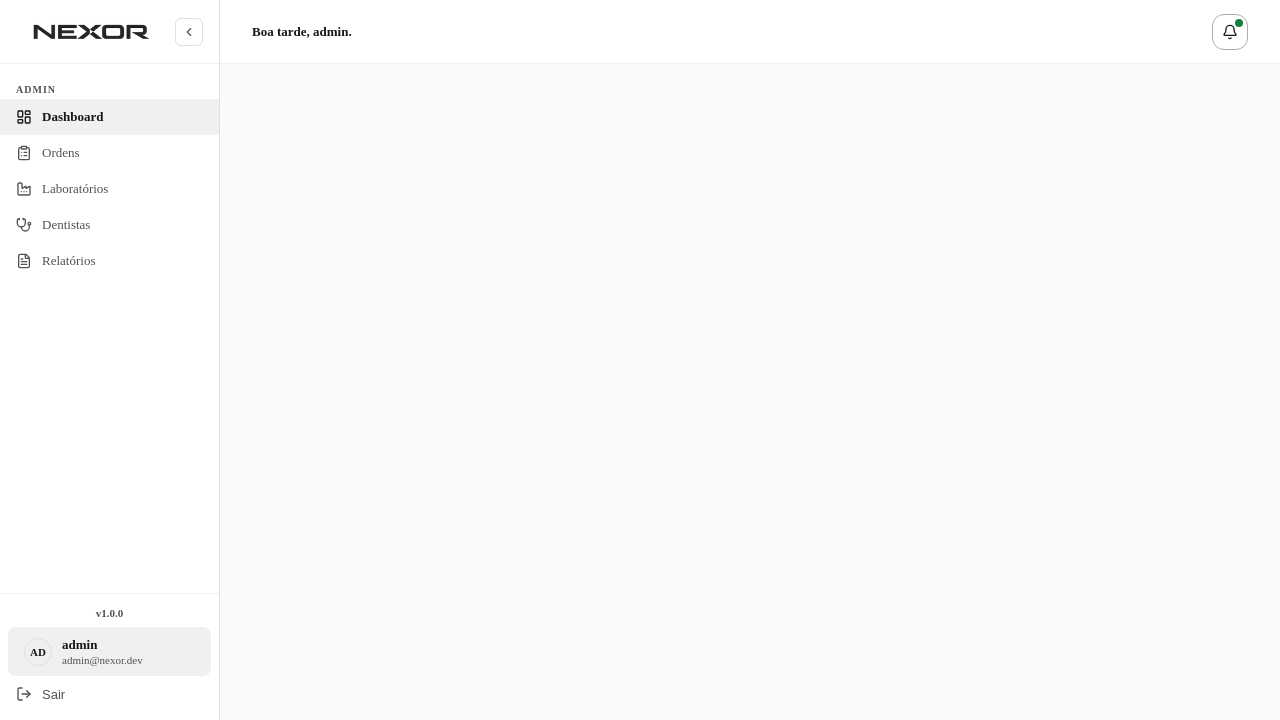
PortalLayout navigation › opens the notifications box with read and unread mock notifications
Click the button named "notificações". click: (1230, 32)
box: [1212,14,1248,50]
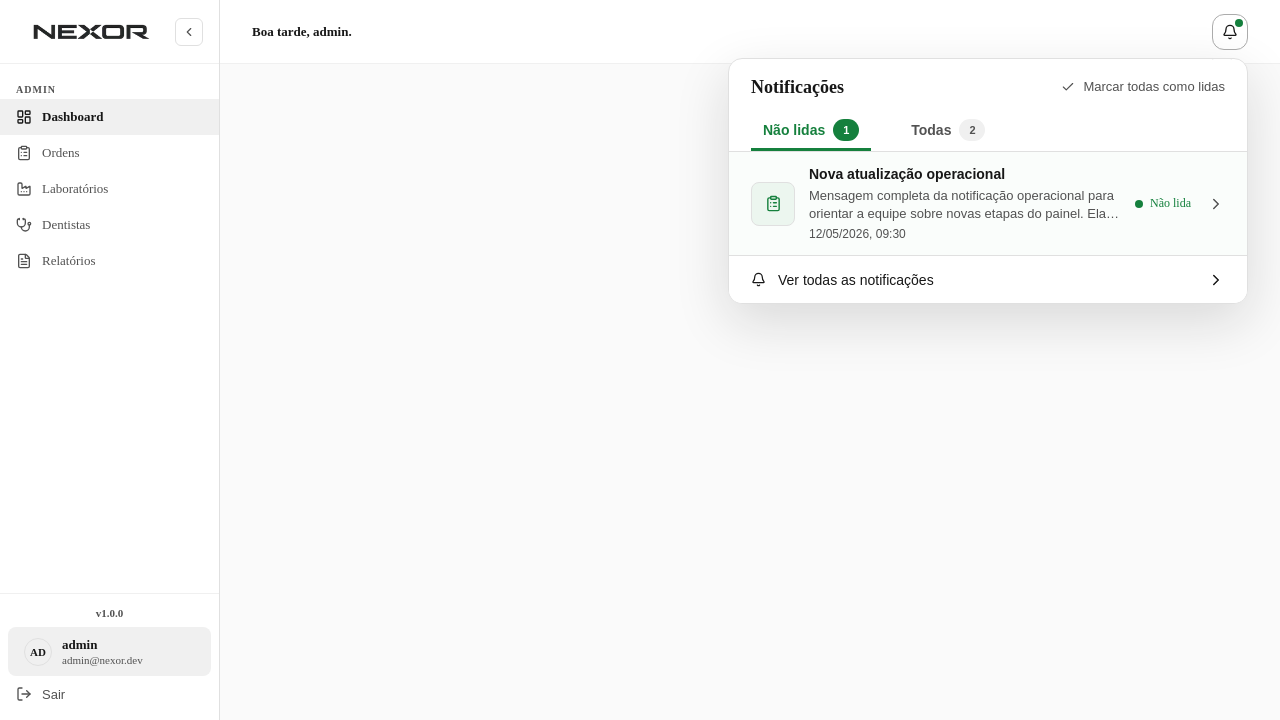
Expected: the dialog "Notificações" is shown, [728,58,1248,304]
Expected: the button with aria-label "abrir notificação nova atualização operacional" is shown, [751,166,1121,241]
Expected: the text "Não lida" is shown, [1135,196,1191,211]
Click the tab "Todas 2". click: (948, 131)
box: [899,111,998,151]
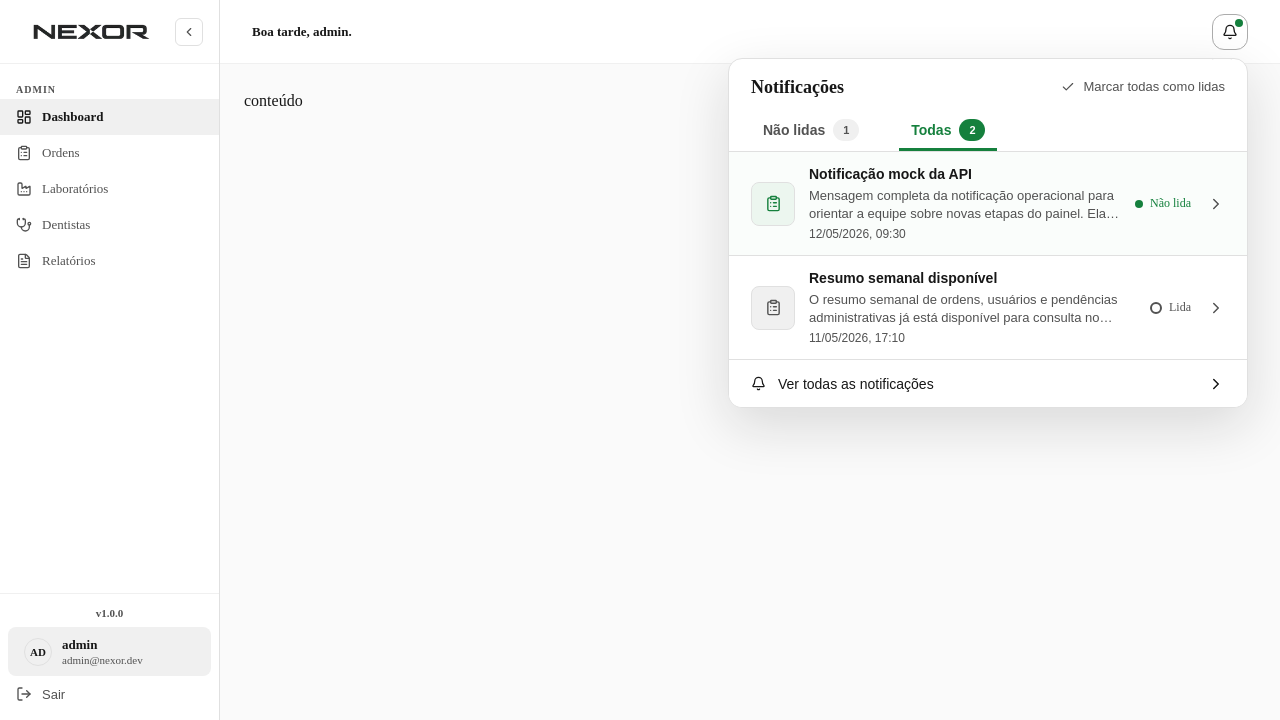
Expected: the text "12/05/2026, 09:30" is shown, [809,227,906,241]
Expected: the text "Lida" is shown, [1150,300,1191,315]
